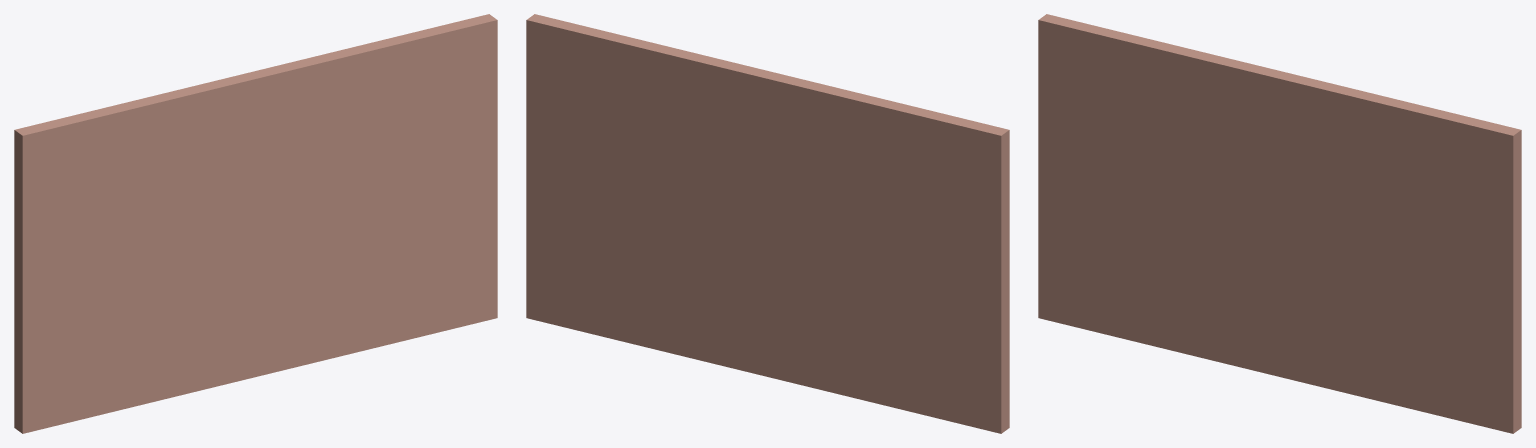
File: Stena.FBX
3 views of the same model, side by side, from view 1: azimuth 30°, elevation 25°; view 2: azimuth 150°, elevation 25°; view 3: azimuth 330°, elevation 25° (orthographic).
Visible parts, largest first — view 1: Box001; view 2: Box001; view 3: Box001.
Part boxes in pixels (x1=…): Box001: x1=14, y1=14, x2=497, y2=433; Box001: x1=526, y1=14, x2=1009, y2=433; Box001: x1=1038, y1=14, x2=1521, y2=433.
Size of the model in its own units: 50000 by 30000 by 1500.
